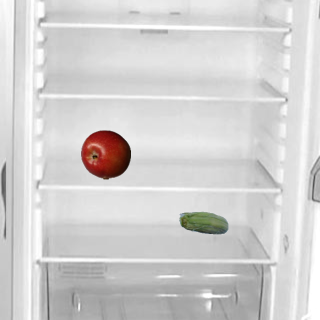Apple Braeburn: (80, 129, 130, 179)
Corn Husk: (178, 199, 228, 249)
